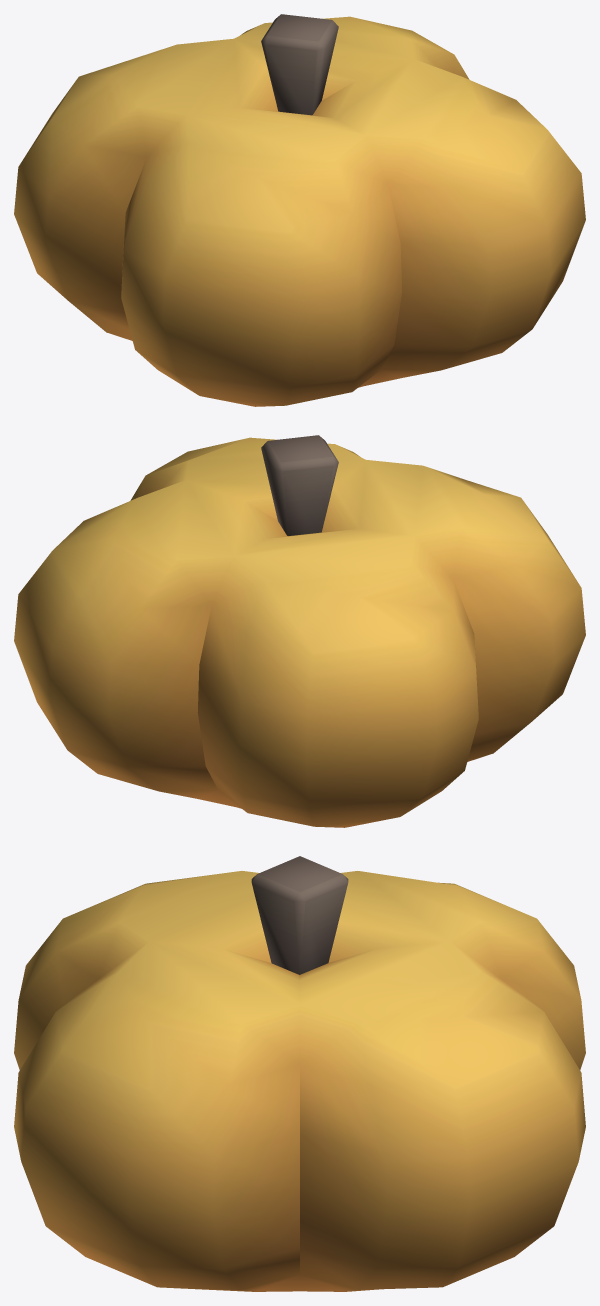
File: pumpkin_yellow.glb
3 renders of one model, top to bottom at view 1: azimuth 30°, elevation 25°; view 2: azimuth 150°, elevation 25°; view 3: azimuth 270°, elevation 25°, orthographic. The views are drawn at different scales.
Visible parts, largest first — view 1: pumpkin_yellow; view 2: pumpkin_yellow; view 3: pumpkin_yellow.
Part boxes in pixels (x1=…): pumpkin_yellow: x1=14, y1=14, x2=585, y2=406; pumpkin_yellow: x1=14, y1=435, x2=585, y2=827; pumpkin_yellow: x1=14, y1=856, x2=585, y2=1291.
Bounding box in the file's own units: 1 × 0.7 × 1.
1 material, 1 textured.
